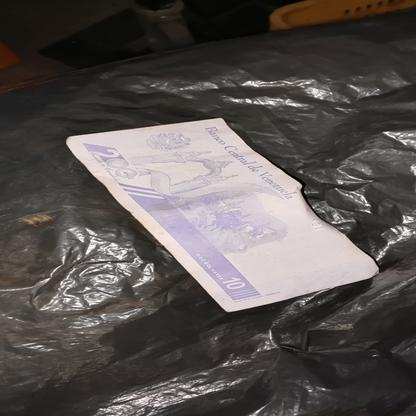ten-back-vef: (67, 116, 380, 313)
